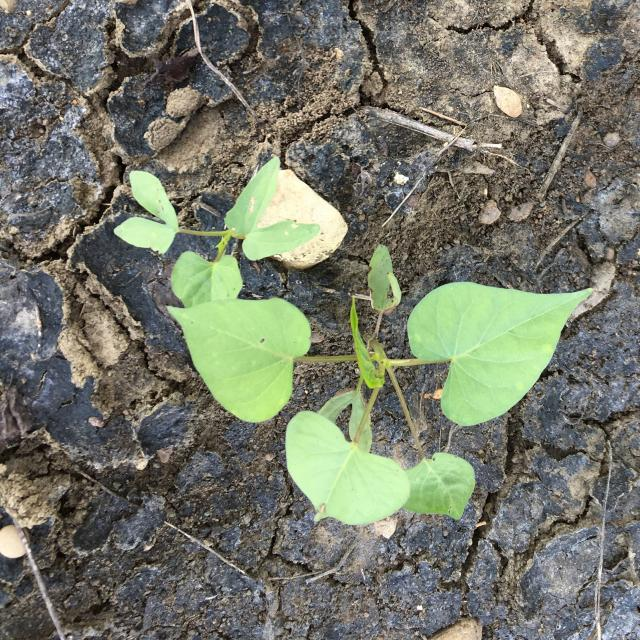MorningGlory: (166, 245, 594, 522), (113, 157, 321, 308)
